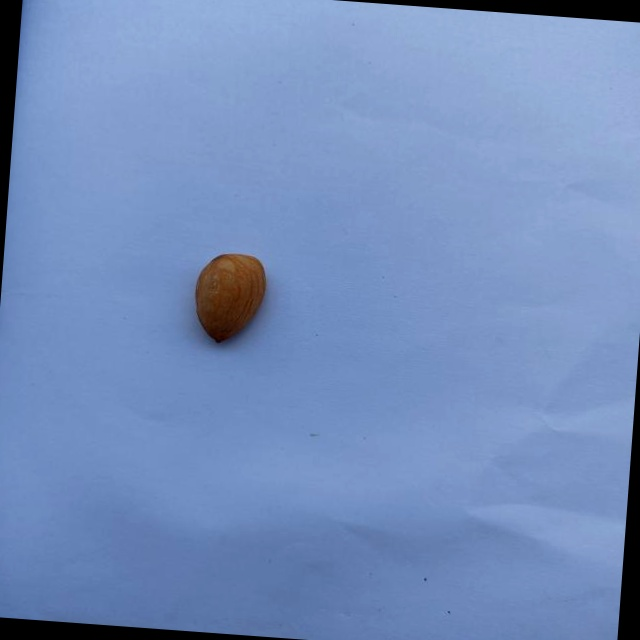grade2: (188, 248, 275, 349)
